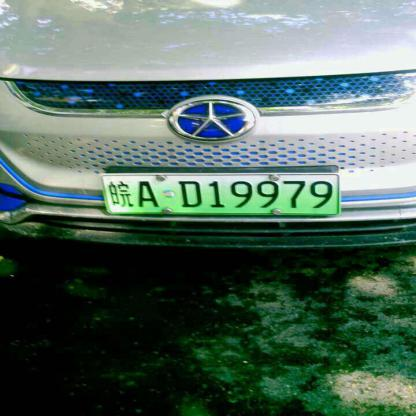lp: (102, 176, 337, 214)
